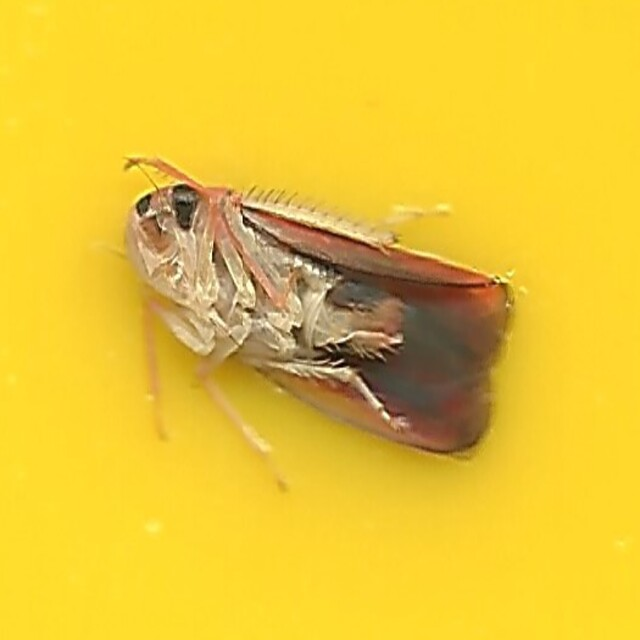Hemiptera: (122, 177, 518, 463)
